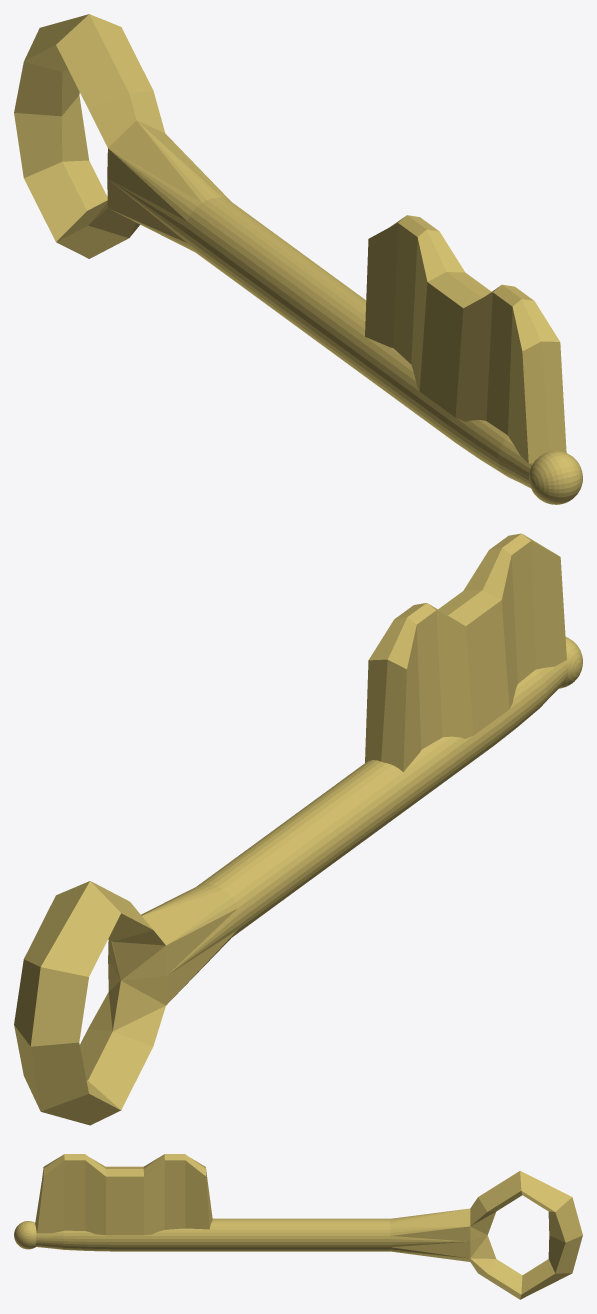
Rendered from key.glb.
3 renders of one model, top to bottom at view 1: azimuth 30°, elevation 25°; view 2: azimuth 150°, elevation 25°; view 3: azimuth 270°, elevation 25°, orthographic. The views are drawn at different scales.
Visible parts, largest first — view 1: Cube; view 2: Cube; view 3: Cube.
Boxes of the visible parts, x1,y1,x2,y2 form: Cube: (14,14,582,504); Cube: (14,533,582,1125); Cube: (14,1154,582,1299).
Bounding box in the file's own units: 0.3566 × 1.44 × 5.1.
